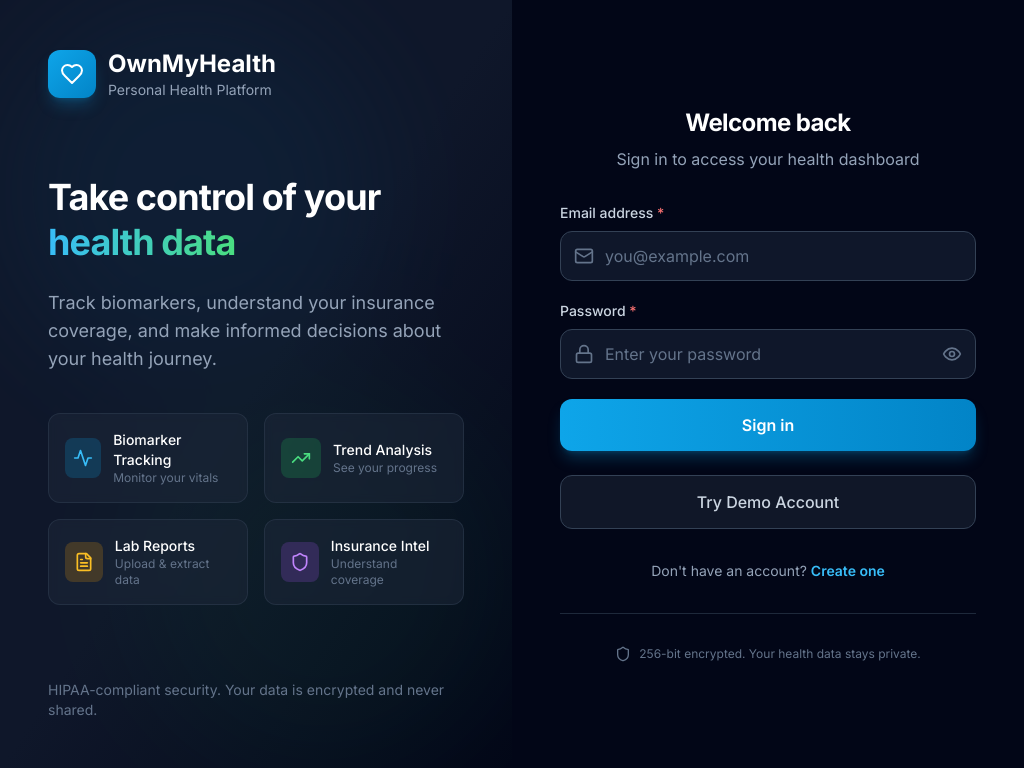
LoginPage › Form Validation › should show error when password is empty
Type "test@example.com" into the field labelled "Email address *" at (768, 256), box [560,230,976,280]
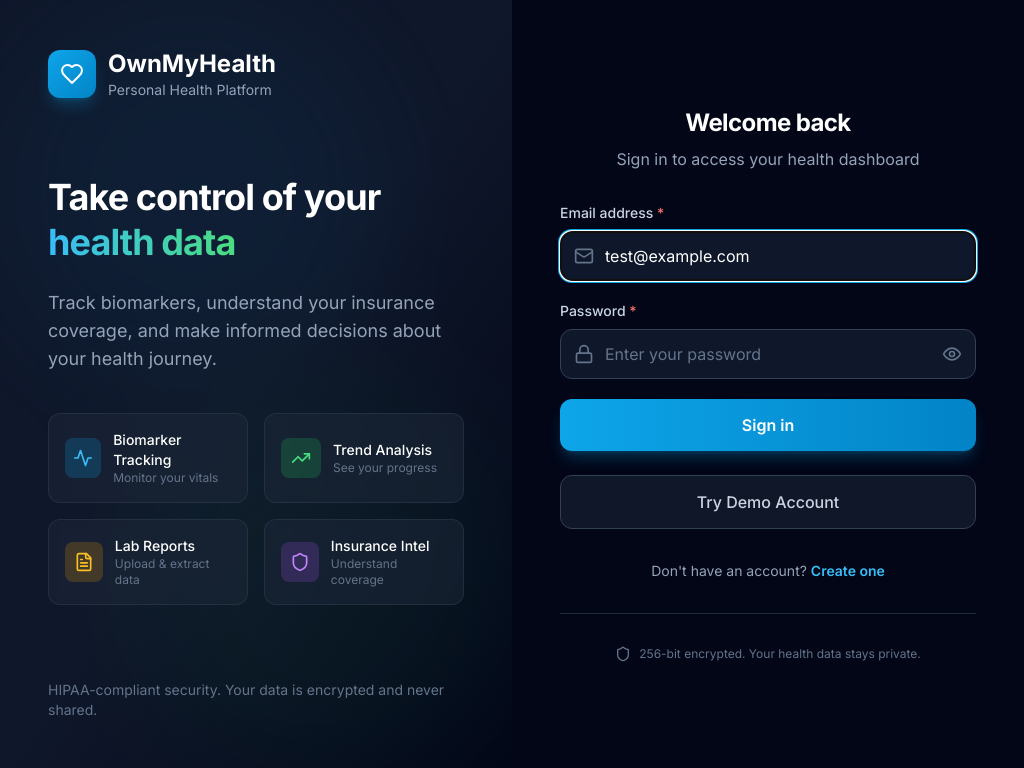
Submit the form "Email address * Password * Sign in", box [560,202,976,450]
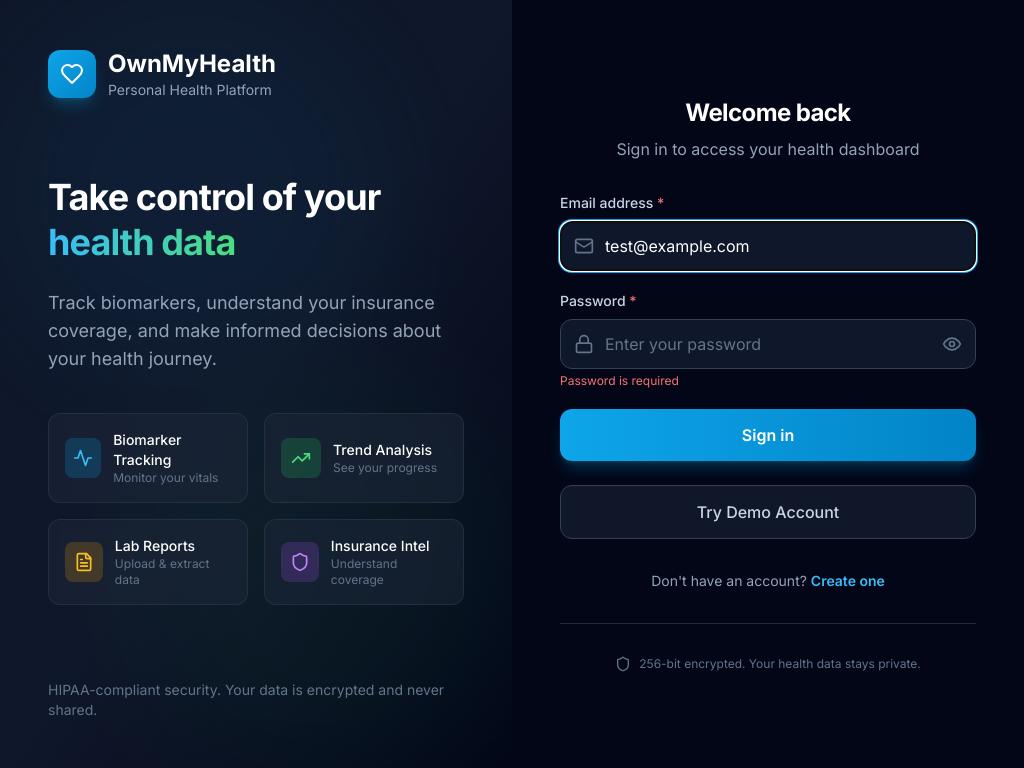
Check: the text "Password is required" is shown, box [560,372,679,388]
